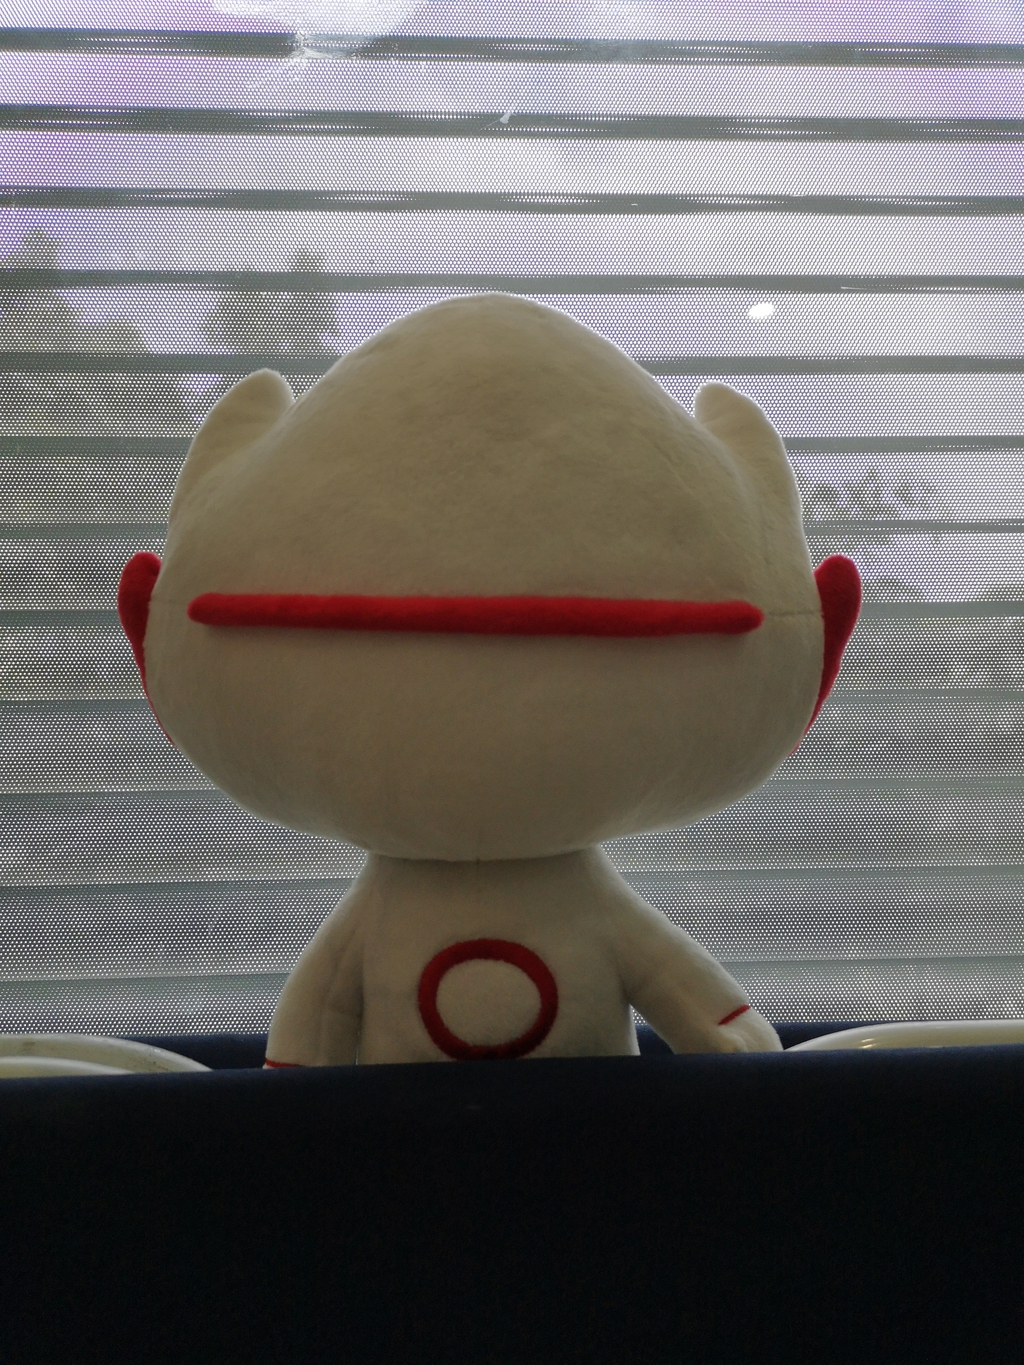yunbao: (191, 241, 866, 1177)
